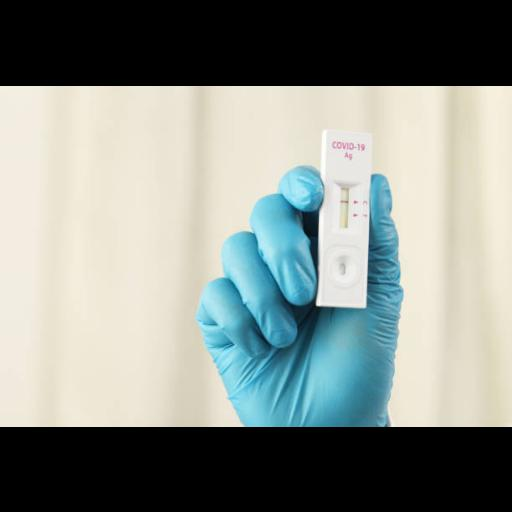Neg: (317, 130, 371, 307)
